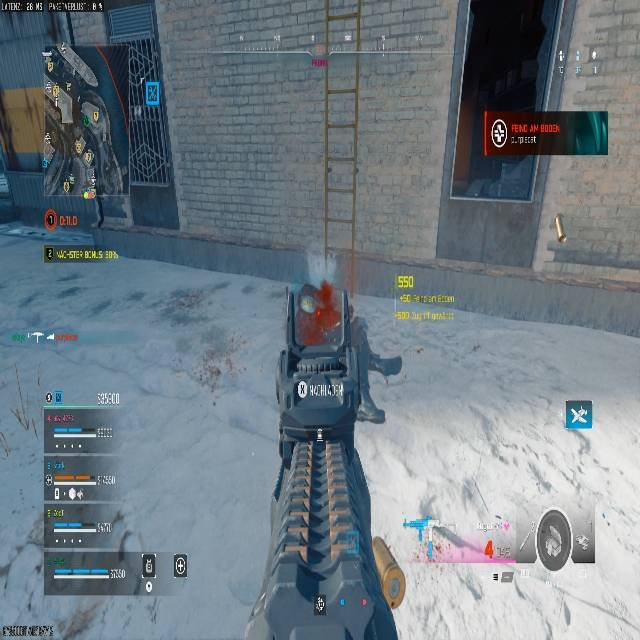player: (271, 280, 401, 609)
